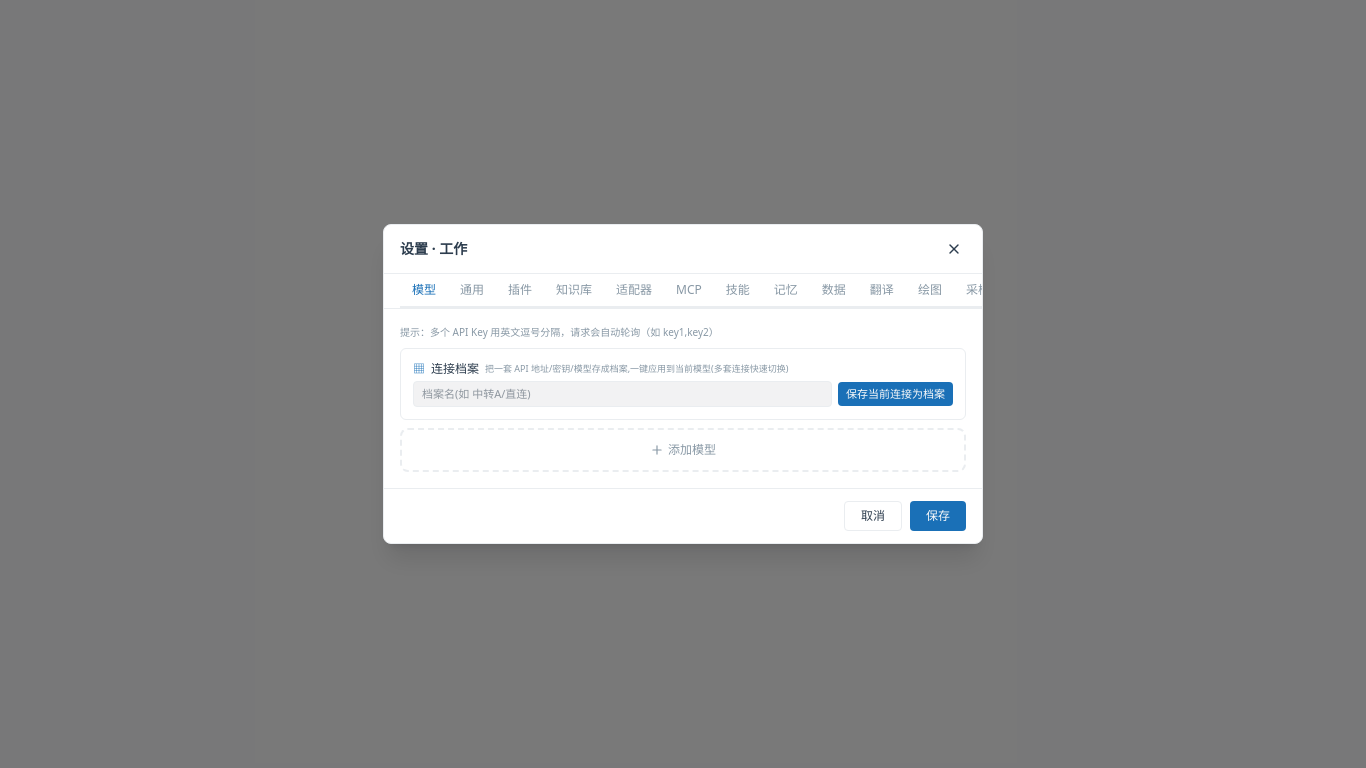
Scenario: SettingsDialog — 绘图 tab › 「测试连接」成功 → probe_draw_service 载荷正确，显示在线状态与模型列表
The width and height of the screenshot is (1366, 768).
Click the button "绘图" at (930, 291), box [906,274,954,308]
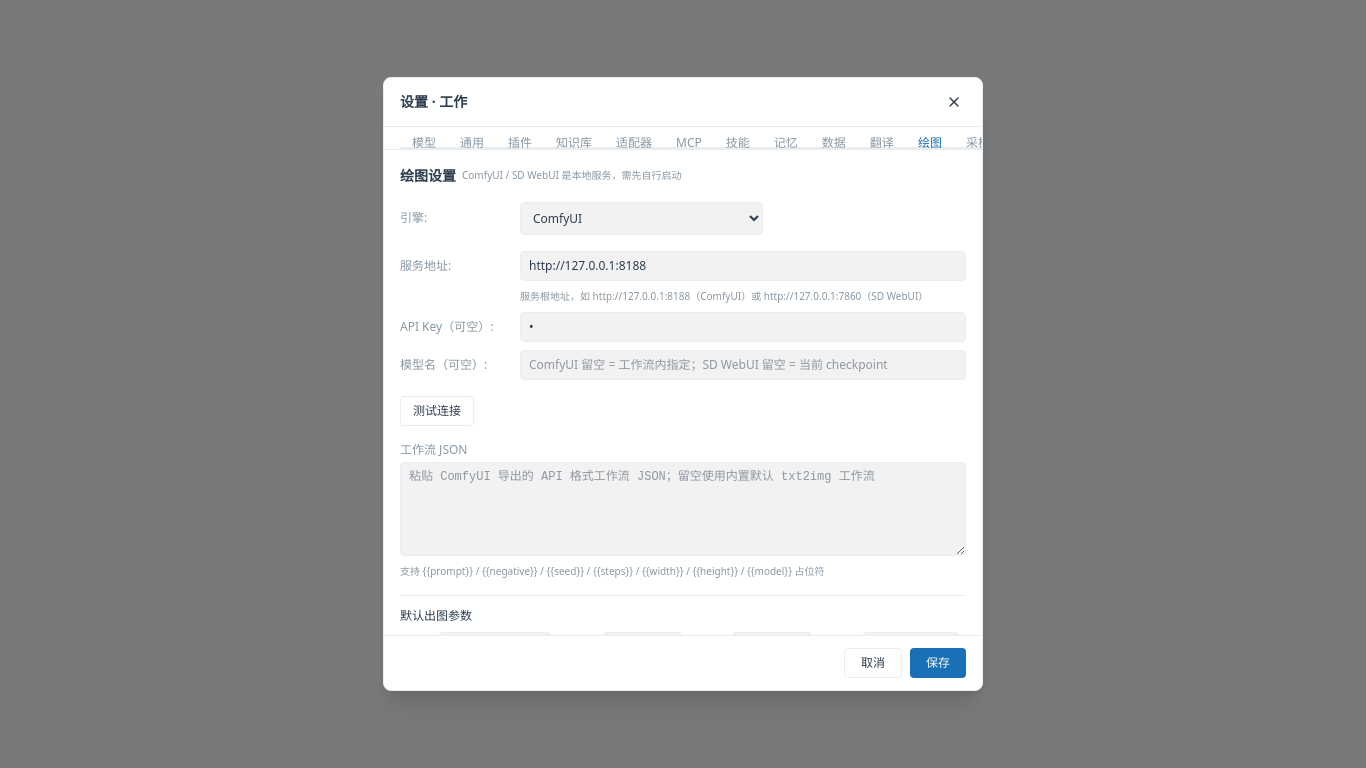
Click the button "测试连接" at (437, 411), box [400,396,474,426]
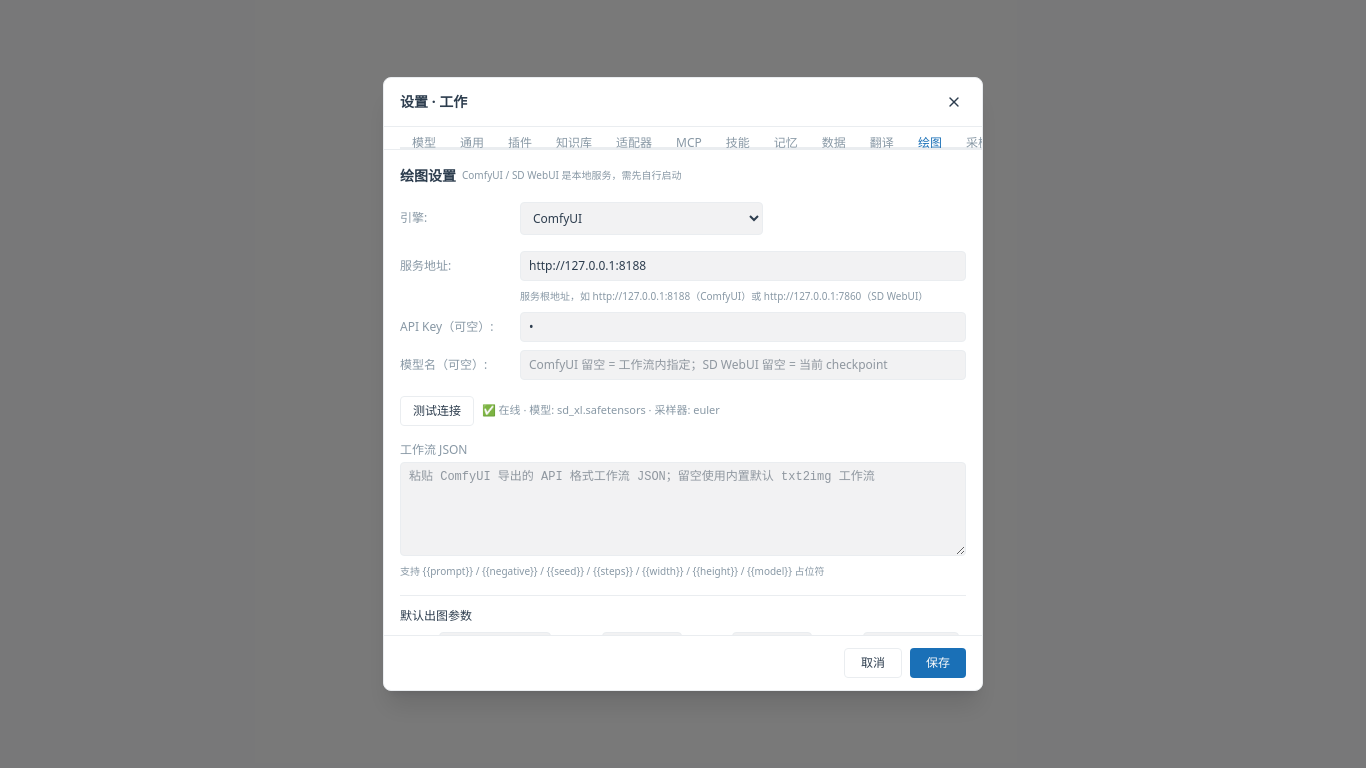
Expected: the message shows "在线", [482,402,720,418]
Expected: the message shows "sd_xl.safetensors", [482,402,720,418]
